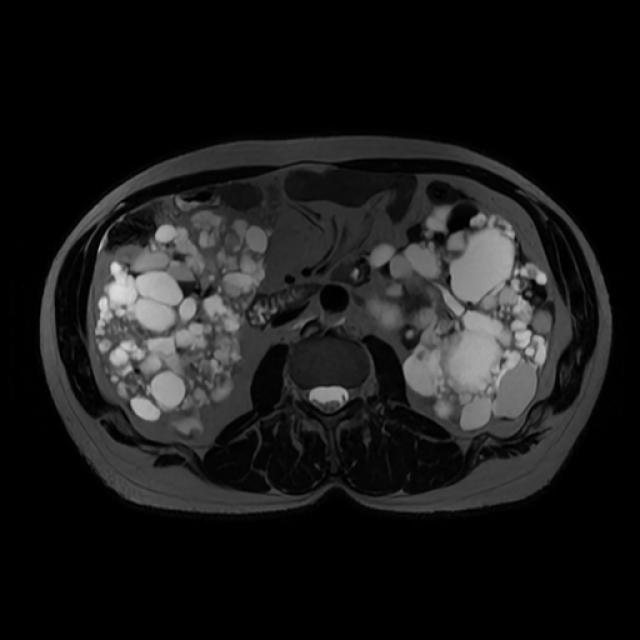sag: (93, 209, 274, 438)
sol: (363, 201, 554, 432)
